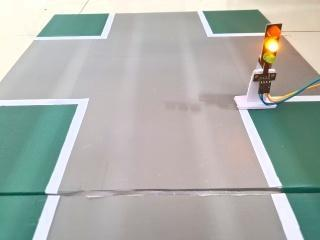yellow: (254, 17, 291, 72)
